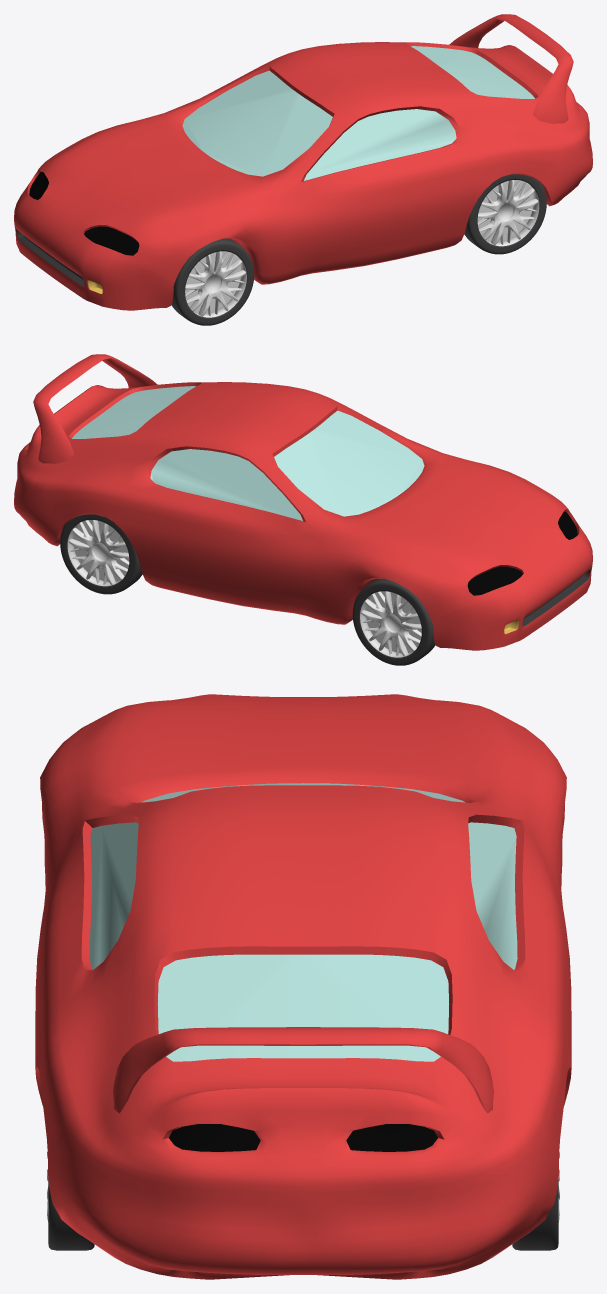
The model's file is car3.fbx.
The picture shows the model from 3 angles, top to bottom: view 1: azimuth 30°, elevation 25°; view 2: azimuth 150°, elevation 25°; view 3: azimuth 270°, elevation 25°; orthographic projection. The views are drawn at different scales.
Parts seen in each view (by area): view 1: Plane, Rim, Rim.001, Plane.002; view 2: Plane, Rim, Rim.001, Plane.002; view 3: Plane, Plane.002, Rim.001.
Boxes of the visible parts, x1,y1,x2,y2 form: Plane: [14, 42, 592, 310]; Rim: [171, 238, 254, 325]; Rim.001: [464, 174, 546, 254]; Plane.002: [449, 14, 573, 123]; Plane: [14, 382, 592, 650]; Rim: [352, 578, 435, 665]; Rim.001: [60, 514, 142, 594]; Plane.002: [33, 354, 157, 463]; Plane: [35, 694, 571, 1279]; Plane.002: [113, 1027, 493, 1113]; Rim.001: [47, 1152, 559, 1250].
Bounding box in the file's own units: 682 × 201 × 303.
